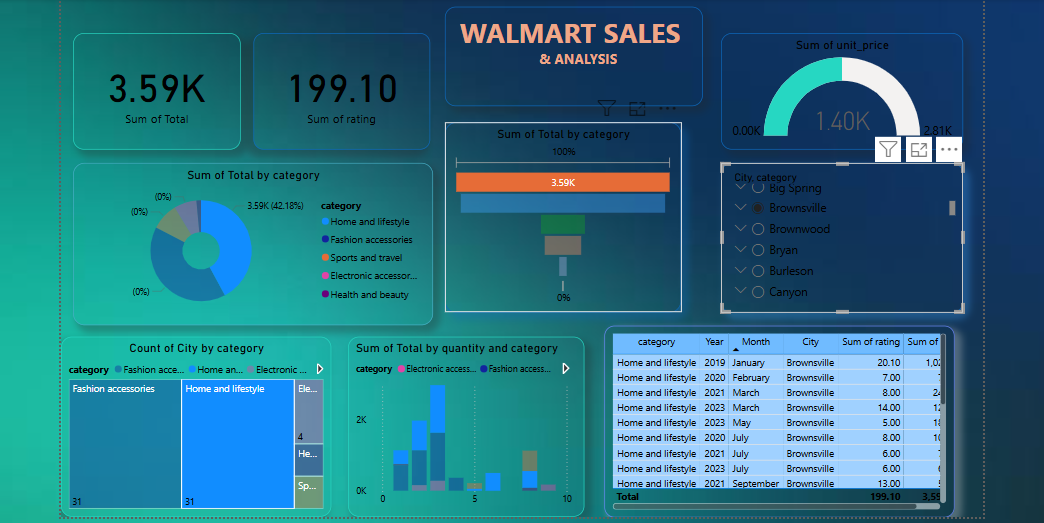

The dashboard page shown, as its layout file describes it:
{"tool":"powerbi","page":{"name":"Page 1","canvas":[1280,720],"ordinal":0},"visuals":[{"type":"donutChart","fields":{"Y":["Sum(Walmart_clean_data.Total)"],"Category":["Walmart_clean_data.category"]},"box":[17.4,253.7,499.6,199.8],"z":0},{"type":"columnChart","fields":{"Category":["Walmart_clean_data.quantity"],"Series":["Walmart_clean_data.category"],"Y":["Sum(Walmart_clean_data.Total)"]},"box":[398.8,469.8,327.9,250],"z":1000},{"type":"treemap","fields":{"Values":["CountNonNull(Walmart_clean_data.City)"],"Group":["Walmart_clean_data.category","Walmart_clean_data.Branch"]},"box":[0,469.8,375.6,250],"z":2000},{"type":"funnel","fields":{"Category":["Walmart_clean_data.category"],"Y":["Sum(Walmart_clean_data.Total)"]},"box":[532.6,187.2,329.1,231.4],"z":3000},{"type":"slicer","fields":{"Values":["Walmart_clean_data.City","Walmart_clean_data.category"]},"box":[916.3,176.7,336,229.1],"z":4000},{"type":"tableEx","fields":{"Values":["Walmart_clean_data.category","Walmart_clean_data.date.Variation.Date Hierarchy.Year","Walmart_clean_data.date.Variation.Date Hierarchy.Month","Walmart_clean_data.City","Sum(Walmart_clean_data.rating)","Sum(Walmart_clean_data.Total)"]},"box":[754.7,453.5,486,266.3],"z":5000},{"type":"card","fields":{"Values":["Sum(Walmart_clean_data.Total)"]},"box":[17.4,27.9,232.6,210.5],"z":6000},{"type":"gauge","fields":{"Y":["Sum(Walmart_clean_data.unit_price)"]},"box":[916.3,10.5,336,152.3],"z":7000},{"type":"card","fields":{"Values":["Sum(Walmart_clean_data.rating)"]},"box":[268,123.7,245.8,115.8],"z":8000},{"type":"textbox","box":[532.9,11.1,358.4,138],"z":9000}]}

Visuals, with their boxes on the page's 1280x720 design canvas (x1, y1, x2, y2). These are canvas units, not pixel positions in the 1044x523 screenshot, which may show the page scaled, cropped or inside an application window:
donutChart - Sum(Walmart_clean_data.Total) x Walmart_clean_data.category: [17,254,517,454]
columnChart - Walmart_clean_data.quantity x Walmart_clean_data.category: [399,470,727,720]
treemap - CountNonNull(Walmart_clean_data.City) x Walmart_clean_data.category: [0,470,376,720]
funnel - Walmart_clean_data.category x Sum(Walmart_clean_data.Total): [533,187,862,419]
slicer - Walmart_clean_data.City x Walmart_clean_data.category: [916,177,1252,406]
tableEx - Walmart_clean_data.category x Walmart_clean_data.date.Variation.Date Hierarchy.Year: [755,454,1241,720]
card - Sum(Walmart_clean_data.Total): [17,28,250,238]
gauge - Sum(Walmart_clean_data.unit_price): [916,10,1252,163]
card - Sum(Walmart_clean_data.rating): [268,124,514,240]
textbox: [533,11,891,149]
